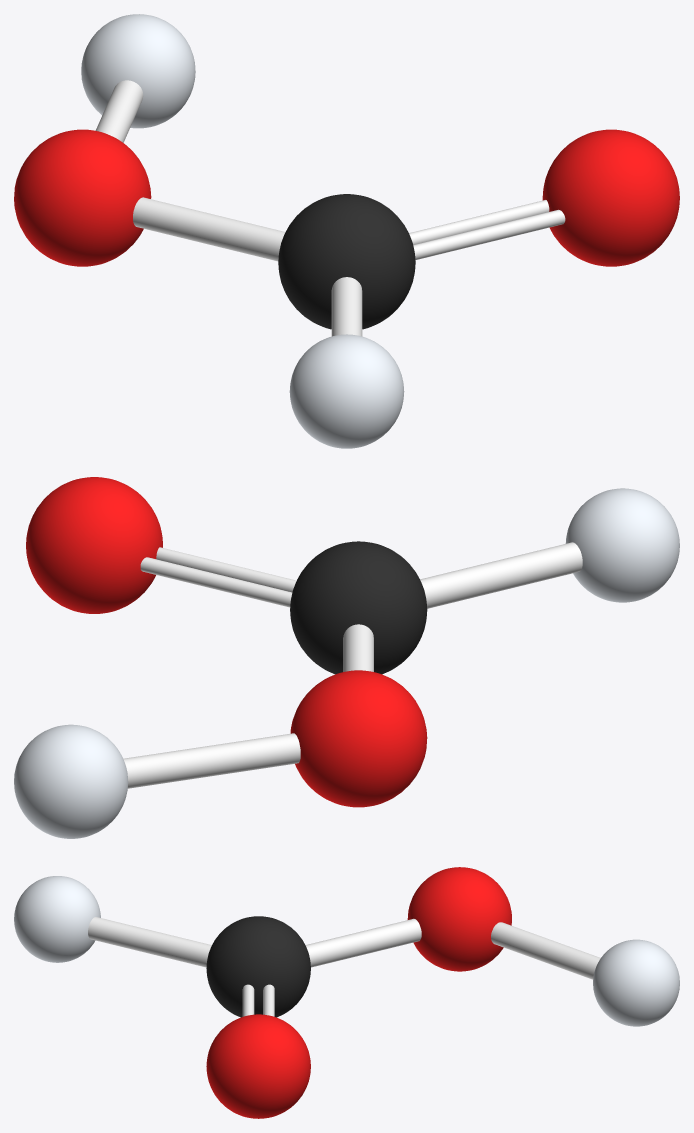
The model's file is formic_acid.fbx.
The picture shows the model from 3 angles, top to bottom: view 1: azimuth 30°, elevation 25°; view 2: azimuth 150°, elevation 25°; view 3: azimuth 270°, elevation 25°; orthographic projection. The views are drawn at different scales.
Visible parts, largest first — view 1: alkanoic_acid; view 2: alkanoic_acid; view 3: alkanoic_acid.
Part boxes in pixels (x1,y1,x2,y2): alkanoic_acid: [14, 14, 679, 448]; alkanoic_acid: [14, 477, 679, 838]; alkanoic_acid: [14, 867, 679, 1118].
Size of the model in its own units: 156 by 36 by 229.
